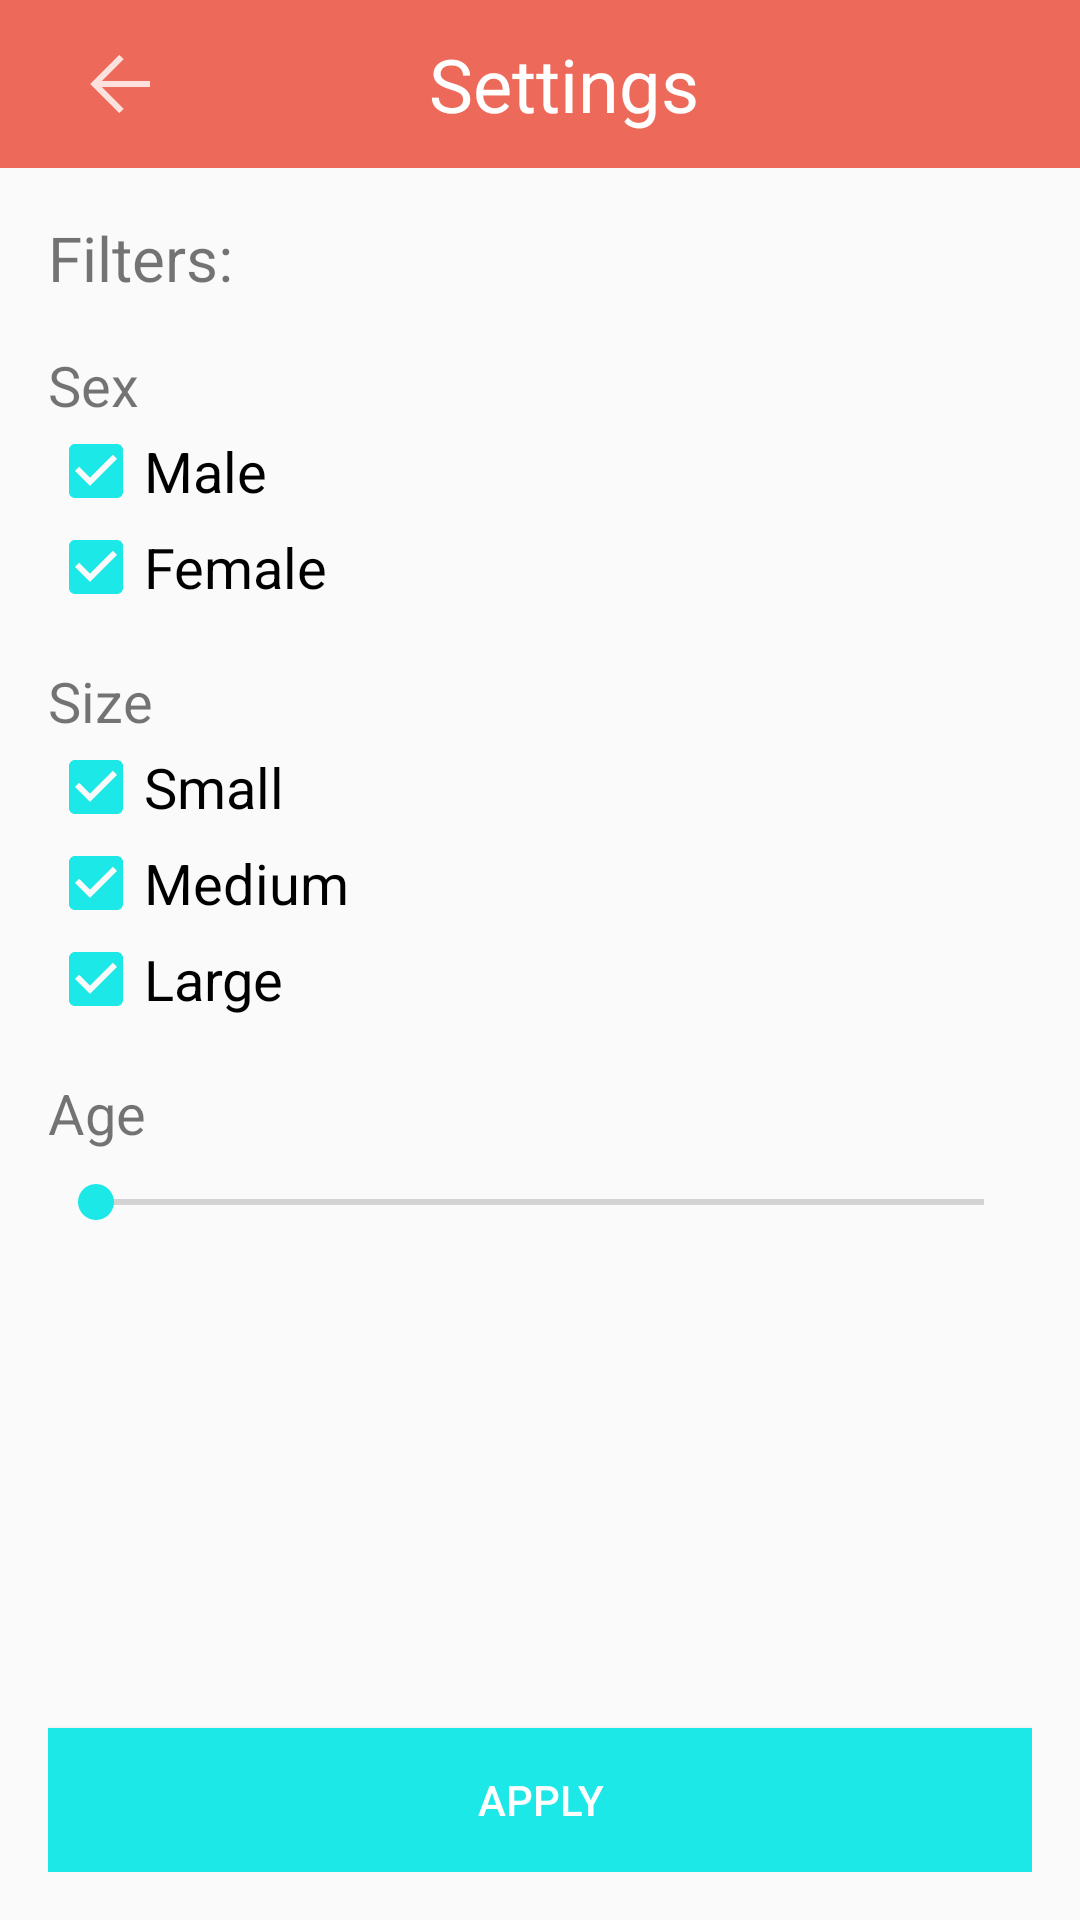

Locate icon controls on the screen. Image size 1080w x 1920h, boxes as (x1, y1, x2, y2).
back: (90, 55, 150, 113)
